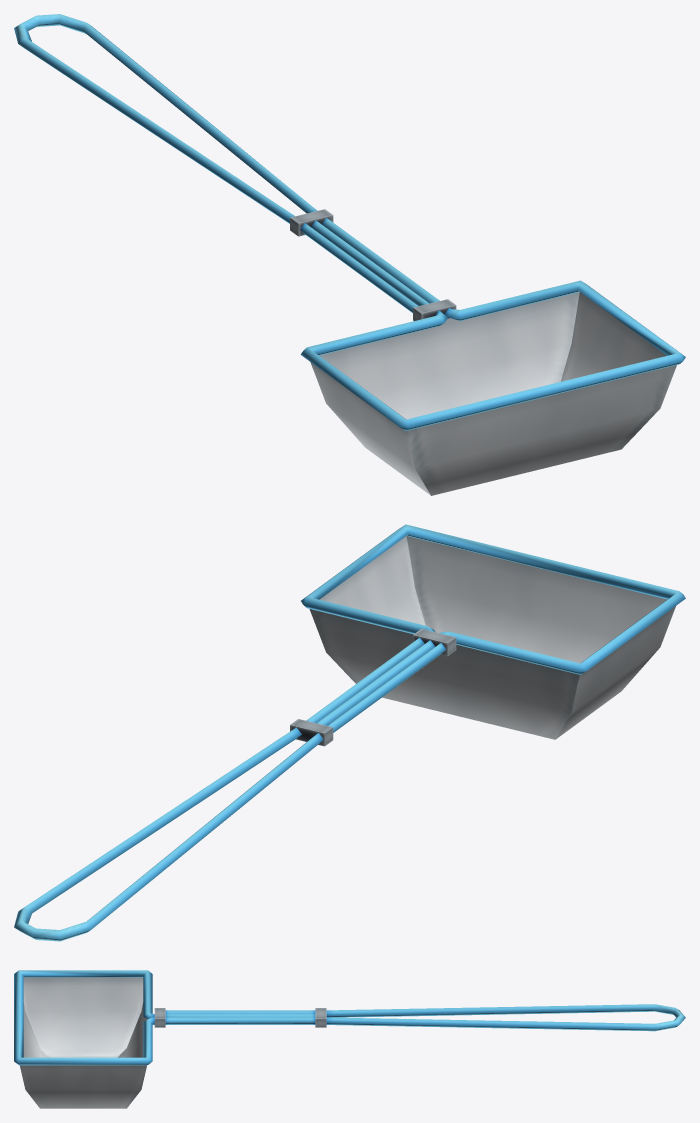
Rendered from jsf_ScoopNet_01a.fbx.
The picture shows the model from 3 angles, top to bottom: view 1: azimuth 30°, elevation 25°; view 2: azimuth 150°, elevation 25°; view 3: azimuth 270°, elevation 25°; orthographic projection. The views are drawn at different scales.
Visible parts, largest first — view 1: jsf_ScoopNet_01a; view 2: jsf_ScoopNet_01a; view 3: jsf_ScoopNet_01a.
Part boxes in pixels (x1,y1,x2,y2): jsf_ScoopNet_01a: (14, 14, 685, 495); jsf_ScoopNet_01a: (14, 524, 685, 941); jsf_ScoopNet_01a: (14, 970, 685, 1108).
Size of the model in its own units: 8.37 by 3.11 by 26.
